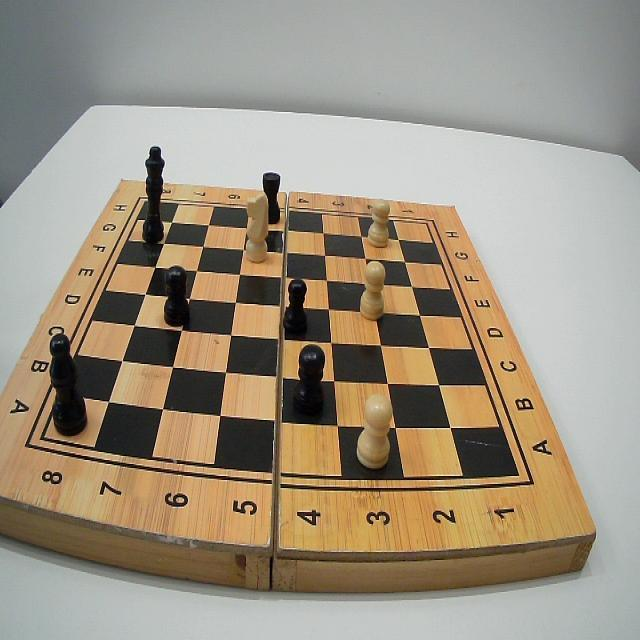black-bishop: (49, 333, 88, 436)
black-pawn: (293, 346, 328, 418), (163, 266, 193, 328), (282, 279, 310, 332)
black-queen: (142, 145, 164, 243)
black-rook: (262, 171, 280, 226)
white-knight: (245, 194, 269, 263)
white-pawn: (356, 392, 392, 470), (358, 260, 387, 320), (367, 198, 391, 249)
